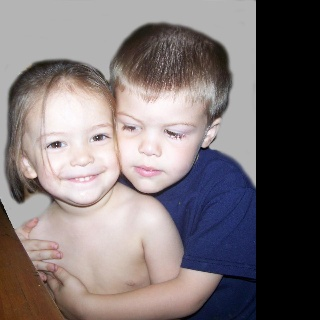without_mask: (22, 88, 120, 205), (113, 95, 207, 192)
